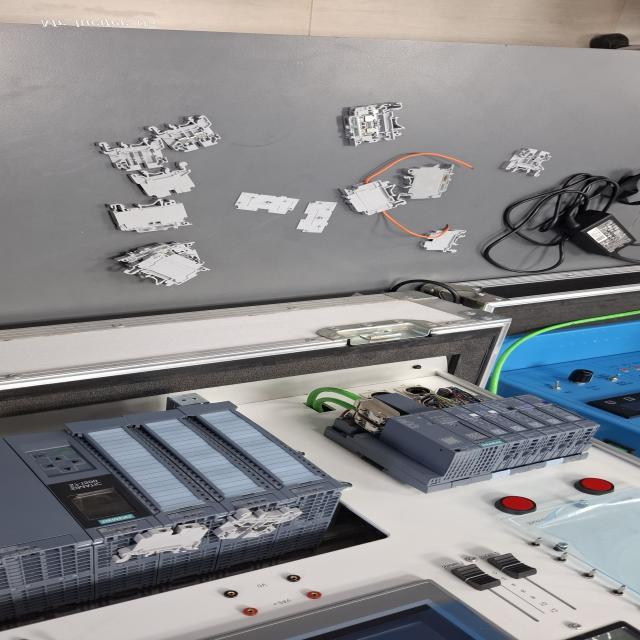Inverted: (116, 158, 208, 204), (397, 220, 478, 256)
Pass: (157, 106, 235, 157)
Reject: (92, 128, 178, 178), (485, 144, 563, 182)
